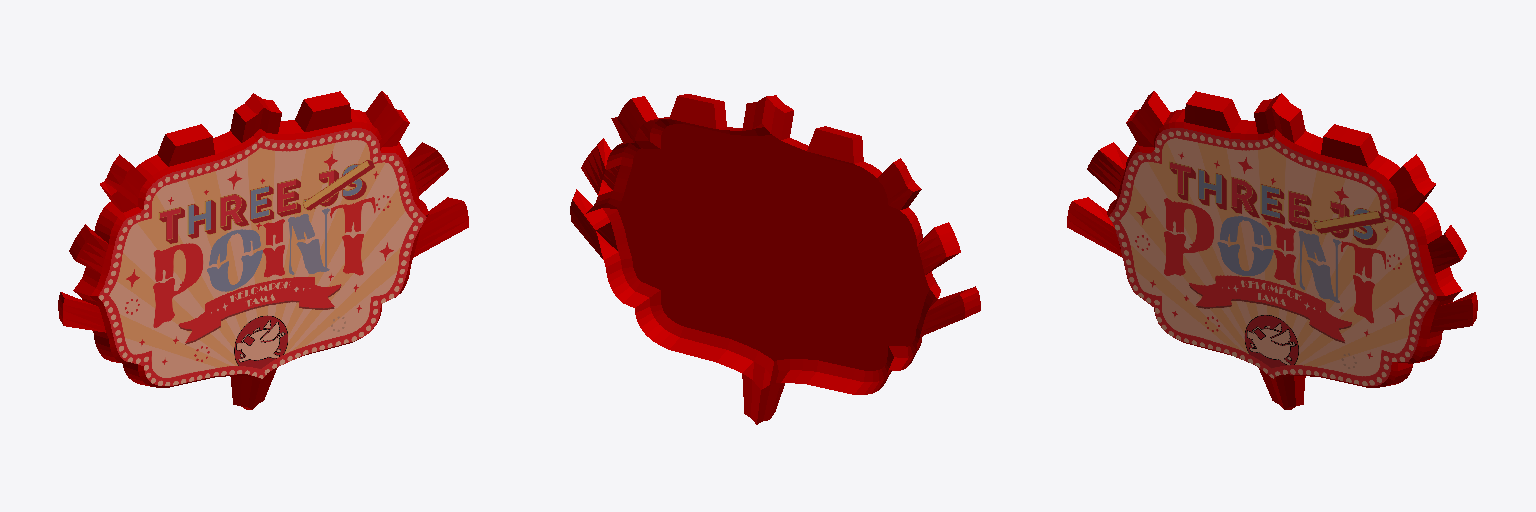
3 renders of one model, left to right at view 1: azimuth 30°, elevation 25°; view 2: azimuth 150°, elevation 25°; view 3: azimuth 330°, elevation 25°, orthographic.
Bounding box in the file's own units: 23.5 × 17.85 × 2.12.
Materials: 2 (1 with a texture image).